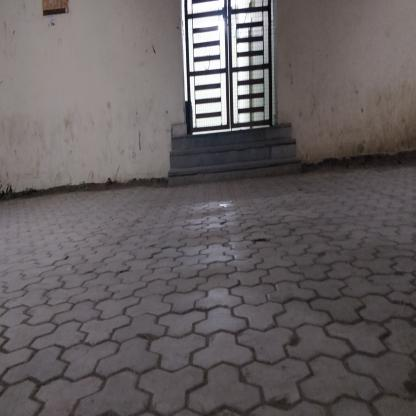stairs: (180, 127, 293, 187)
